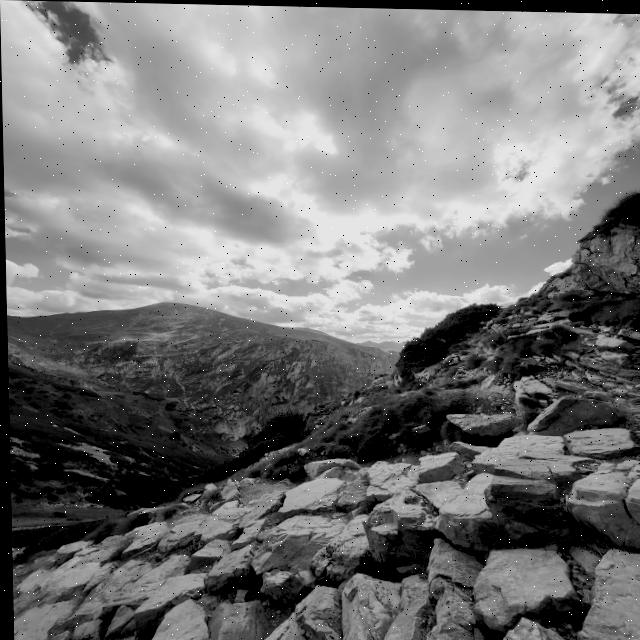Malolaczniak: (28, 226, 342, 386)
